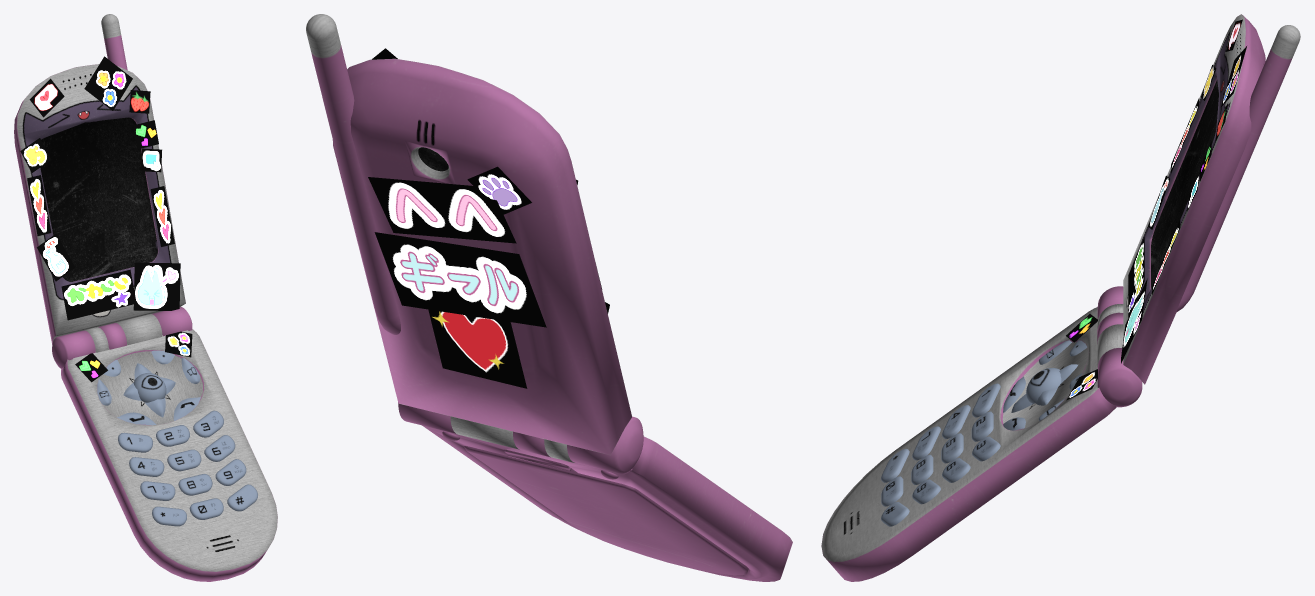
3 renders of one model, left to right at view 1: azimuth 30°, elevation 25°; view 2: azimuth 150°, elevation 25°; view 3: azimuth 270°, elevation 25°, orthographic. The views are drawn at different scales.
Parts seen in each view (by area): view 1: bottomPhone_low, antenna_low, Plane.012, Plane.011, Plane.005, Plane.013, Plane.009, Plane.010, Plane.004, Plane.014, Plane.016, Plane.007 (+3 smaller); view 2: antenna_low, bottomPhone_low, Plane, Plane.001, Plane.002, Plane.003; view 3: bottomPhone_low, antenna_low, Plane.012, Plane.011.
Part boxes in pixels (x1=…): bottomPhone_low: x1=52, y1=307, x2=277, y2=581; antenna_low: x1=14, y1=14, x2=185, y2=344; Plane.012: x1=61, y1=269, x2=136, y2=320; Plane.011: x1=133, y1=262, x2=180, y2=310; Plane.005: x1=84, y1=56, x2=132, y2=110; Plane.013: x1=37, y1=234, x2=74, y2=281; Plane.009: x1=27, y1=175, x2=51, y2=235; Plane.010: x1=150, y1=186, x2=174, y2=246; Plane.004: x1=29, y1=78, x2=64, y2=117; Plane.014: x1=20, y1=138, x2=51, y2=172; Plane.016: x1=165, y1=331, x2=192, y2=357; Plane.007: x1=133, y1=120, x2=158, y2=149; antenna_low: x1=306, y1=14, x2=631, y2=455; bottomPhone_low: x1=398, y1=402, x2=792, y2=581; Plane: x1=374, y1=232, x2=546, y2=327; Plane.001: x1=368, y1=177, x2=516, y2=243; Plane.002: x1=428, y1=309, x2=527, y2=388; Plane.003: x1=467, y1=166, x2=531, y2=214; bottomPhone_low: x1=821, y1=286, x2=1142, y2=581; antenna_low: x1=1123, y1=14, x2=1300, y2=384; Plane.012: x1=1128, y1=237, x2=1144, y2=319; Plane.011: x1=1121, y1=278, x2=1147, y2=363.
Size of the model in its own units: 1.75 by 5.24 by 3.97.
Materials: 2 (2 with a texture image).
